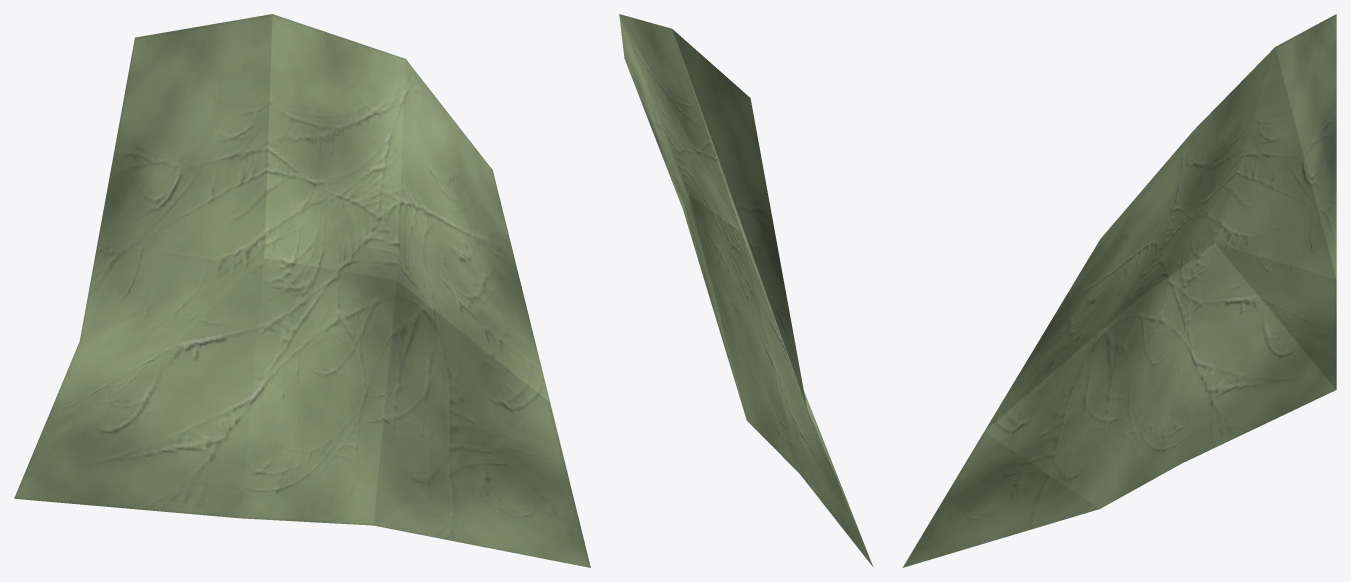
The model's file is cobweb3.fbx.
The picture shows the model from 3 angles, left to right: view 1: azimuth 30°, elevation 25°; view 2: azimuth 150°, elevation 25°; view 3: azimuth 270°, elevation 25°; orthographic projection.
Visible parts, largest first — view 1: obj0.020; view 2: obj0.020; view 3: obj0.020.
Boxes of the visible parts, x1,y1,x2,y2 form: obj0.020: (14,14,590,567); obj0.020: (619,14,873,567); obj0.020: (902,14,1336,567).
Size of the model in its own units: 2.18 by 2.6 by 2.24.
